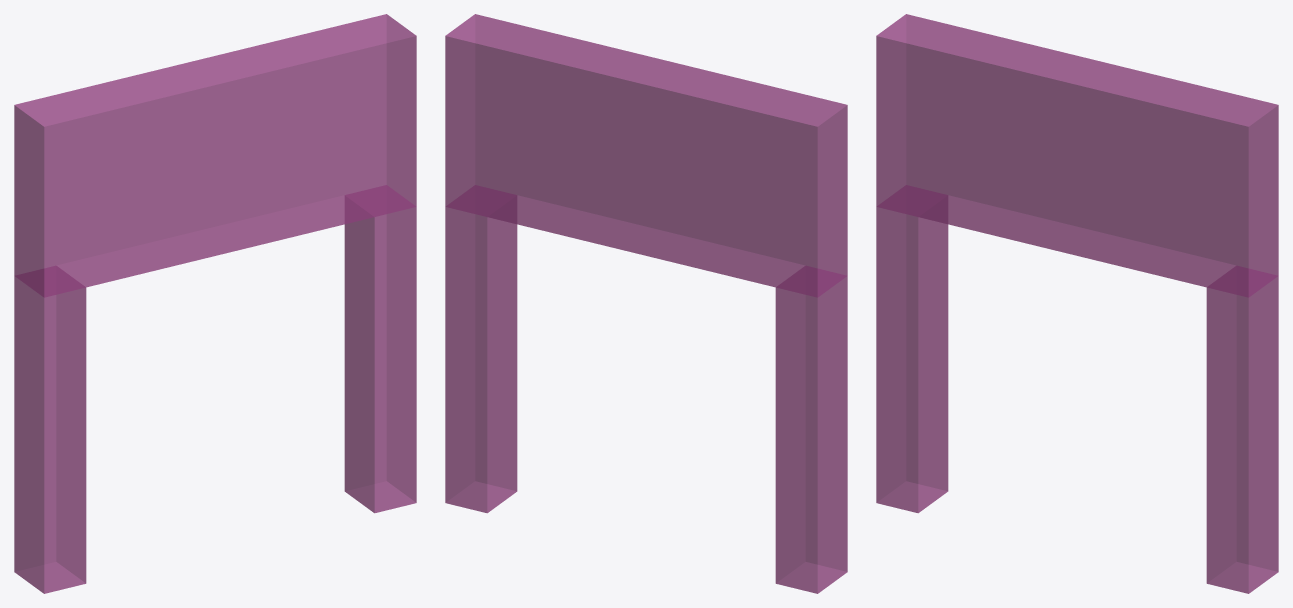
Rendered from SM_Bld_Wall_Door_Double_01_Collision.fbx.
The picture shows the model from 3 angles, left to right: view 1: azimuth 30°, elevation 25°; view 2: azimuth 150°, elevation 25°; view 3: azimuth 330°, elevation 25°; orthographic projection.
Visible parts, largest first — view 1: SM_Bld_Wall_Door_Double_01_Collision; view 2: SM_Bld_Wall_Door_Double_01_Collision; view 3: SM_Bld_Wall_Door_Double_01_Collision.
Boxes of the visible parts, x1,y1,x2,y2 form: SM_Bld_Wall_Door_Double_01_Collision: (14,14,416,593); SM_Bld_Wall_Door_Double_01_Collision: (445,14,847,593); SM_Bld_Wall_Door_Double_01_Collision: (876,14,1278,593).
Size of the model in its own units: 252 by 302 by 35.19.
